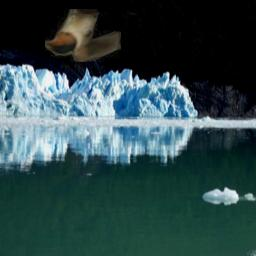Swallow: (45, 9, 121, 62)
